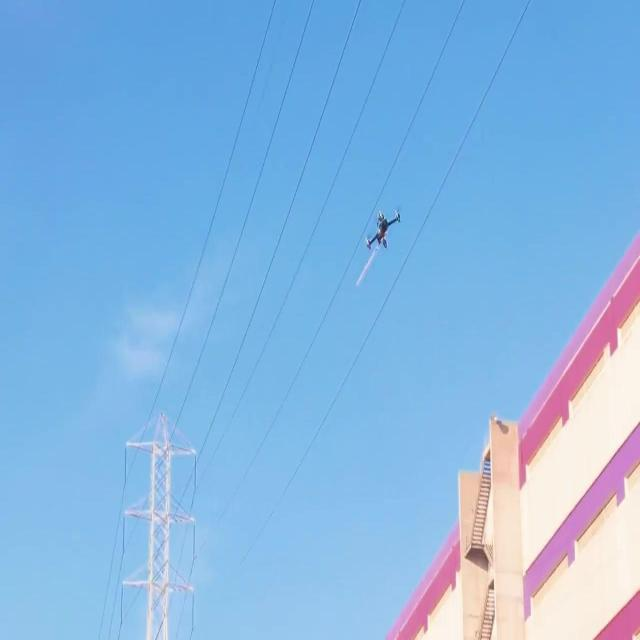drone: (364, 207, 402, 252)
